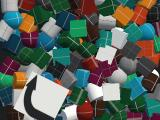Right: (13, 71, 69, 120)
